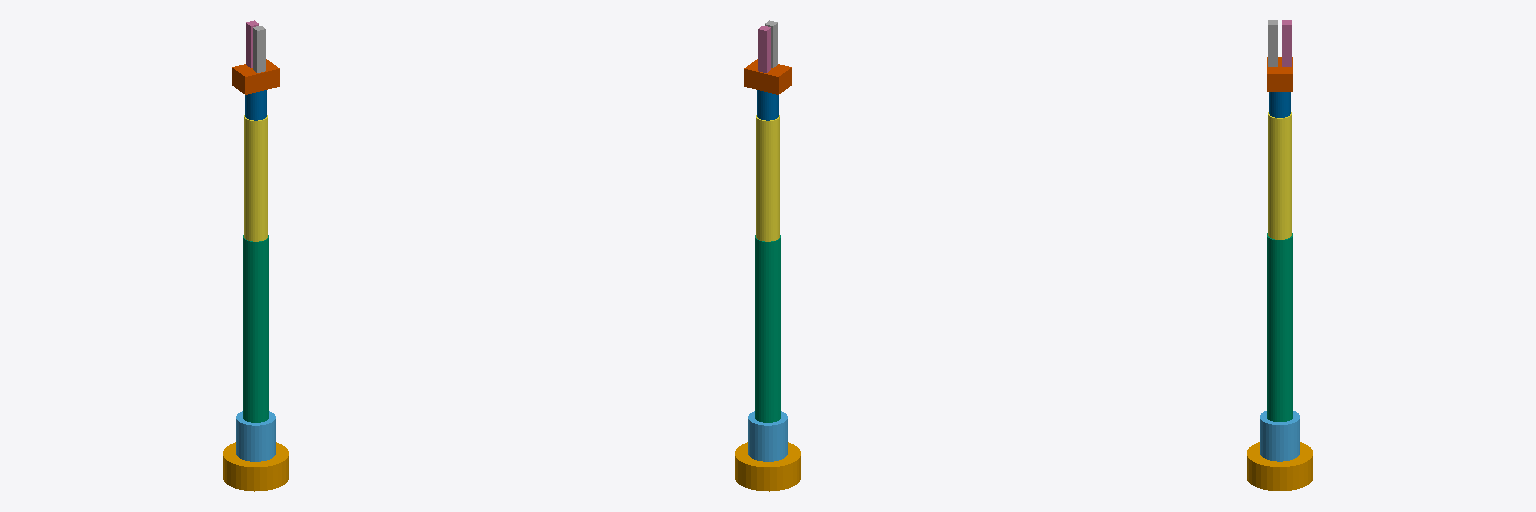
The robot description file, URDF, robot "udp_hand_arm":
<?xml version="1.0"?>
<robot name="udp_hand_arm">

	<!-- Units: meters, kilograms, radians -->

	<link name="base_link">
		<inertial>
			<origin xyz="0 0 0" rpy="0 0 0"/>
			<mass value="1.0"/>
			<inertia ixx="0.001" ixy="0" ixz="0" iyy="0.001" iyz="0" izz="0.001"/>
		</inertial>
		<visual>
			<origin xyz="0 0 0.02" rpy="0 0 0"/>
			<geometry>
				<cylinder radius="0.05" length="0.04"/>
			</geometry>
		</visual>
		<collision>
			<origin xyz="0 0 0.02" rpy="0 0 0"/>
			<geometry>
				<cylinder radius="0.05" length="0.04"/>
			</geometry>
		</collision>
	</link>

	<!-- Joint 0: base rotation around Z -->
	<link name="column_link">
		<inertial>
			<origin xyz="0 0 0.05" rpy="0 0 0"/>
			<mass value="0.5"/>
			<inertia ixx="0.0005" ixy="0" ixz="0" iyy="0.0005" iyz="0" izz="0.0002"/>
		</inertial>
		<visual>
			<origin xyz="0 0 0.05" rpy="0 0 0"/>
			<geometry>
				<cylinder radius="0.03" length="0.10"/>
			</geometry>
		</visual>
		<collision>
			<origin xyz="0 0 0.05" rpy="0 0 0"/>
			<geometry>
				<cylinder radius="0.03" length="0.10"/>
			</geometry>
		</collision>
	</link>

	<joint name="base_rotation" type="revolute">
		<parent link="base_link"/>
		<child link="column_link"/>
		<origin xyz="0 0 0" rpy="0 0 0"/>
		<axis xyz="0 0 1"/>
		<limit lower="-1.57079632679" upper="1.57079632679" effort="50" velocity="3.0"/>
		<dynamics damping="0.2" friction="0.0"/>
	</joint>

	<!-- Joint 1: shoulder bend around Y -->
	<link name="upper_arm_link">
		<inertial>
			<origin xyz="0 0 0.15" rpy="0 0 0"/>
			<mass value="0.7"/>
			<inertia ixx="0.0020" ixy="0" ixz="0" iyy="0.0020" iyz="0" izz="0.0008"/>
		</inertial>
		<visual>
			<origin xyz="0 0 0.15" rpy="0 0 0"/>
			<geometry>
				<cylinder radius="0.02" length="0.30"/>
			</geometry>
		</visual>
		<collision>
			<origin xyz="0 0 0.15" rpy="0 0 0"/>
			<geometry>
				<cylinder radius="0.02" length="0.30"/>
			</geometry>
		</collision>
	</link>

	<joint name="shoulder_angle" type="revolute">
		<parent link="column_link"/>
		<child link="upper_arm_link"/>
		<origin xyz="0 0 0.10" rpy="0 0 0"/>
		<axis xyz="0 1 0"/>
		<limit lower="-1.57079632679" upper="1.57079632679" effort="50" velocity="3.0"/>
		<dynamics damping="0.2" friction="0.0"/>
	</joint>

	<!-- Joint 2: elbow bend around Y -->
	<link name="forearm_link">
		<inertial>
			<origin xyz="0 0 0.10" rpy="0 0 0"/>
			<mass value="0.5"/>
			<inertia ixx="0.0010" ixy="0" ixz="0" iyy="0.0010" iyz="0" izz="0.0005"/>
		</inertial>
		<visual>
			<origin xyz="0 0 0.10" rpy="0 0 0"/>
			<geometry>
				<cylinder radius="0.018" length="0.20"/>
			</geometry>
		</visual>
		<collision>
			<origin xyz="0 0 0.10" rpy="0 0 0"/>
			<geometry>
				<cylinder radius="0.018" length="0.20"/>
			</geometry>
		</collision>
	</link>

	<joint name="elbow_angle" type="revolute">
		<parent link="upper_arm_link"/>
		<child link="forearm_link"/>
		<origin xyz="0 0 0.30" rpy="0 0 0"/>
		<axis xyz="0 1 0"/>
		<limit lower="-5" upper="5" effort="40" velocity="3.0"/>
		<dynamics damping="0.2" friction="0.0"/>
	</joint>

	<!-- Joint 3: wrist pitch around Y -->
	<link name="wrist_pitch_link">
		<inertial>
			<origin xyz="0 0 0.025" rpy="0 0 0"/>
			<mass value="0.25"/>
			<inertia ixx="0.0002" ixy="0" ixz="0" iyy="0.0002" iyz="0" izz="0.0001"/>
		</inertial>
		<visual>
			<origin xyz="0 0 0.025" rpy="0 0 0"/>
			<geometry>
				<cylinder radius="0.016" length="0.05"/>
			</geometry>
		</visual>
		<collision>
			<origin xyz="0 0 0.025" rpy="0 0 0"/>
			<geometry>
				<cylinder radius="0.016" length="0.05"/>
			</geometry>
		</collision>
	</link>

	<joint name="wrist_angle" type="revolute">
		<parent link="forearm_link"/>
		<child link="wrist_pitch_link"/>
		<origin xyz="0 0 0.20" rpy="0 0 0"/>
		<axis xyz="0 1 0"/>
		<limit lower="-1.57079632679" upper="1.57079632679" effort="20" velocity="4.0"/>
		<dynamics damping="0.15" friction="0.0"/>
	</joint>

	<!-- Joint 4: wrist rotation around Z -->
	<link name="palm_link">
		<inertial>
			<origin xyz="0 0 0.015" rpy="0 0 0"/>
			<mass value="0.2"/>
			<inertia ixx="0.00008" ixy="0" ixz="0" iyy="0.00008" iyz="0" izz="0.00005"/>
		</inertial>
		<visual>
			<origin xyz="0 0 0.015" rpy="0 0 0"/>
			<geometry>
				<box size="0.06 0.04 0.03"/>
			</geometry>
		</visual>
		<collision>
			<origin xyz="0 0 0.015" rpy="0 0 0"/>
			<geometry>
				<box size="0.06 0.04 0.03"/>
			</geometry>
		</collision>
	</link>

	<joint name="wrist_rotation" type="revolute">
		<parent link="wrist_pitch_link"/>
		<child link="palm_link"/>
		<origin xyz="0 0 0.05" rpy="0 0 0"/>
		<axis xyz="0 0 1"/>
		<limit lower="-1.57079632679" upper="1.57079632679" effort="10" velocity="6.0"/>
		<dynamics damping="0.10" friction="0.0"/>
	</joint>

	<!-- Fingers rotating around X, 2cm apart -->
	<link name="finger1_link">
		<inertial>
			<origin xyz="0 0 0.035" rpy="0 0 0"/>
			<mass value="0.05"/>
			<inertia ixx="0.00002" ixy="0" ixz="0" iyy="0.00002" iyz="0" izz="0.00001"/>
		</inertial>
		<visual>
			<origin xyz="0 0 0.035" rpy="0 0 0"/>
			<geometry>
				<box size="0.015 0.015 0.07"/>
			</geometry>
		</visual>
		<collision>
			<origin xyz="0 0 0.035" rpy="0 0 0"/>
			<geometry>
				<box size="0.015 0.015 0.07"/>
			</geometry>
		</collision>
	</link>

	<link name="finger2_link">
		<inertial>
			<origin xyz="0 0 0.035" rpy="0 0 0"/>
			<mass value="0.05"/>
			<inertia ixx="0.00002" ixy="0" ixz="0" iyy="0.00002" iyz="0" izz="0.00001"/>
		</inertial>
		<visual>
			<origin xyz="0 0 0.035" rpy="0 0 0"/>
			<geometry>
				<box size="0.015 0.015 0.07"/>
			</geometry>
		</visual>
		<collision>
			<origin xyz="0 0 0.035" rpy="0 0 0"/>
			<geometry>
				<box size="0.015 0.015 0.07"/>
			</geometry>
		</collision>
	</link>

	<joint name="finger1" type="revolute">
		<parent link="palm_link"/>
		<child link="finger1_link"/>
		<origin xyz="0 0.01 0.03" rpy="0 0 0"/>
		<axis xyz="1 0 0"/>
		<limit lower="-1.57079632679" upper="1.57079632679" effort="5" velocity="8.0"/>
		<dynamics damping="0.05" friction="0.0"/>
	</joint>

	<joint name="finger2" type="revolute">
		<parent link="palm_link"/>
		<child link="finger2_link"/>
		<origin xyz="0 -0.01 0.03" rpy="0 0 0"/>
		<axis xyz="1 0 0"/>
		<limit lower="-1.57079632679" upper="1.57079632679" effort="5" velocity="8.0"/>
		<dynamics damping="0.05" friction="0.0"/>
	</joint>

</robot>

--- Facts derived from the render (not from the file) ---
Views: 3 orthographic renders of the robot side by side, from view 1: azimuth 30°, elevation 25°; view 2: azimuth 150°, elevation 25°; view 3: azimuth 270°, elevation 25°.
Model udp_hand_arm with 8 links and 7 joints (7 revolute), rooted at base_link, posed all joints at 0.
Visible links, largest first — view 1: upper_arm_link, forearm_link, base_link, column_link, palm_link, wrist_pitch_link, finger2_link; view 2: upper_arm_link, forearm_link, base_link, column_link, palm_link, wrist_pitch_link, finger1_link; view 3: upper_arm_link, forearm_link, base_link, column_link, palm_link, wrist_pitch_link.
Link boxes in pixels (x1,y1,x2,y2): upper_arm_link: [243, 235, 268, 422]; forearm_link: [244, 115, 267, 241]; base_link: [223, 442, 288, 491]; column_link: [236, 411, 275, 461]; palm_link: [232, 59, 279, 94]; wrist_pitch_link: [245, 90, 266, 120]; finger2_link: [253, 26, 265, 72]; upper_arm_link: [755, 235, 780, 422]; forearm_link: [756, 115, 779, 241]; base_link: [735, 442, 800, 491]; column_link: [748, 411, 787, 461]; palm_link: [744, 59, 791, 94]; wrist_pitch_link: [757, 90, 778, 120]; finger1_link: [758, 26, 770, 72]; upper_arm_link: [1267, 233, 1292, 421]; forearm_link: [1268, 112, 1291, 239]; base_link: [1247, 442, 1312, 490]; column_link: [1260, 411, 1299, 461]; palm_link: [1267, 57, 1292, 91]; wrist_pitch_link: [1269, 92, 1290, 117].
Size in the robot's own frame: 0.1 by 0.1 by 0.75 metres.
Geometry: primitives only (box / cylinder / sphere), no mesh files.
